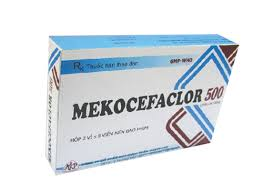Mekocefaclor: (68, 89, 203, 116)
